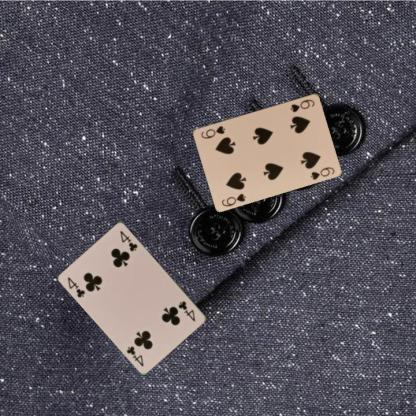4c: (65, 274, 87, 299), (176, 298, 197, 323)
6s: (288, 96, 316, 113), (219, 191, 247, 208)
